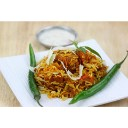briyani: (39, 50, 106, 94)
